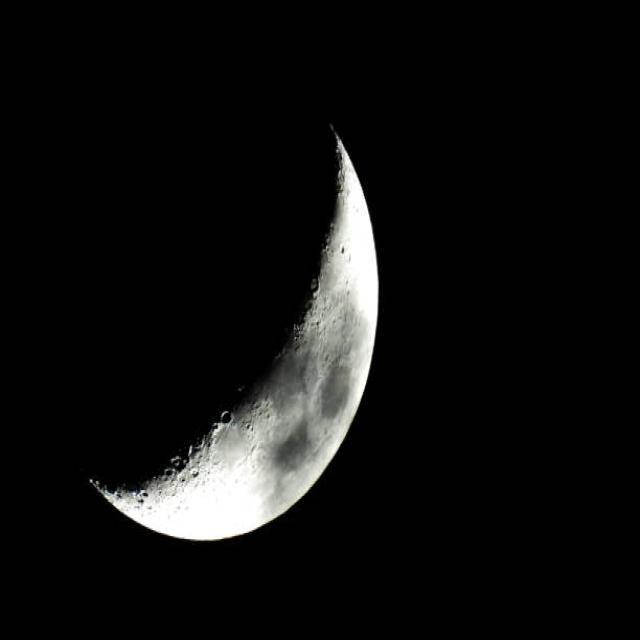moon: (21, 77, 414, 551)
